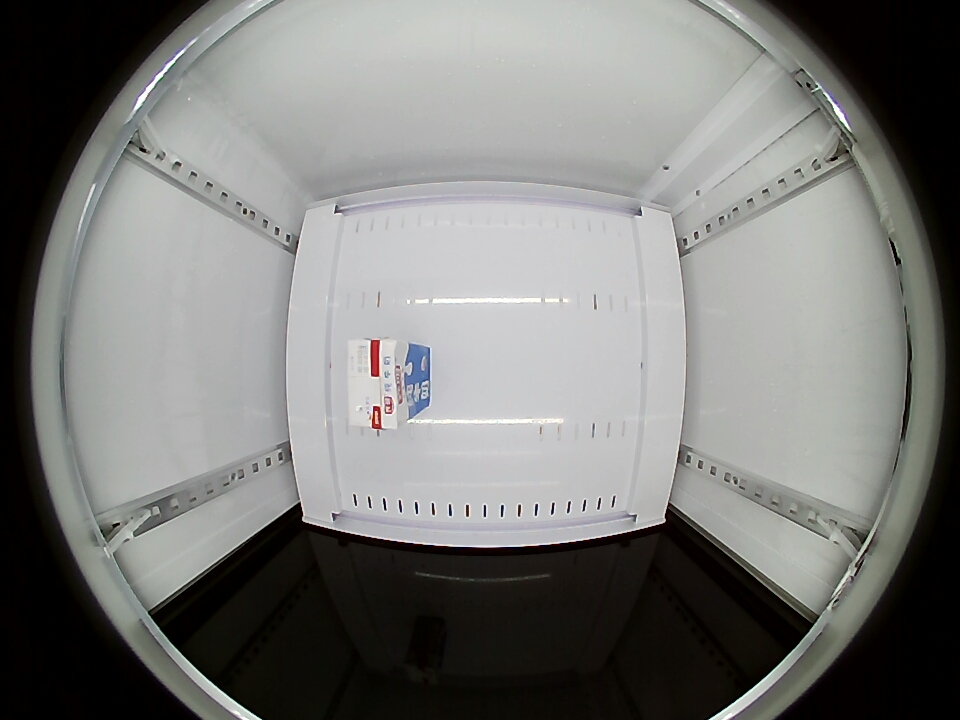niunai: (348, 338, 423, 432)
